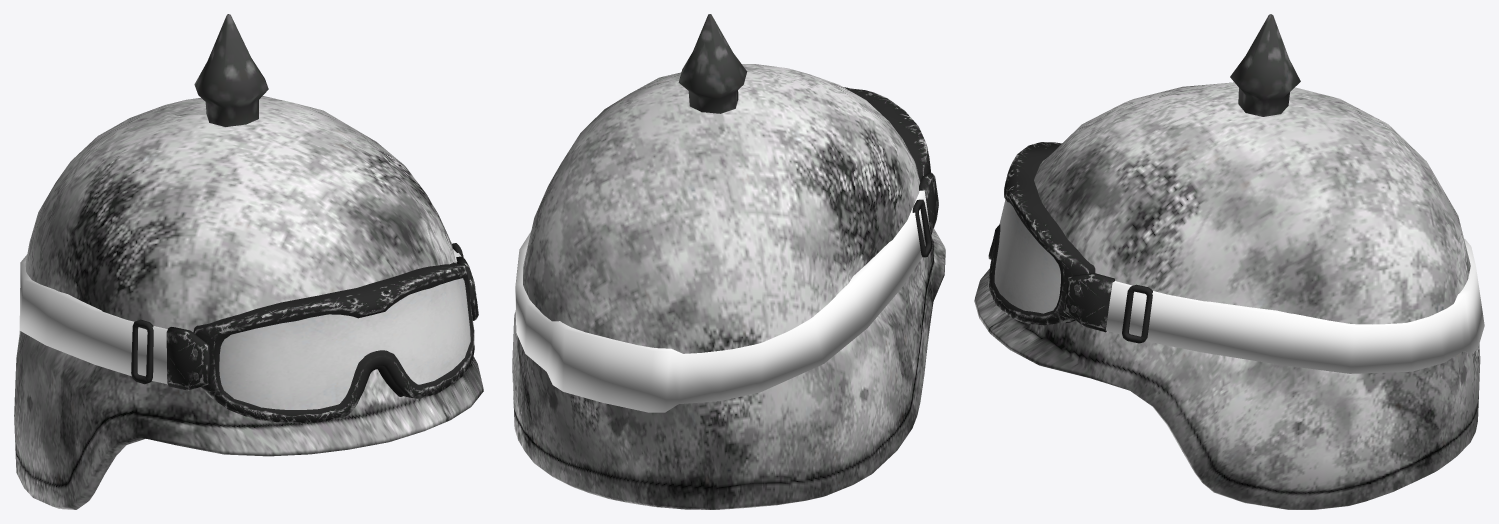
The model's file is SurvivorMale_Head_Helmet_TacticalGogglesSpike_LOD0.glb.
The picture shows the model from 3 angles, left to right: view 1: azimuth 30°, elevation 25°; view 2: azimuth 150°, elevation 25°; view 3: azimuth 270°, elevation 25°; orthographic projection. The views are drawn at different scales.
Parts seen in each view (by area): view 1: Hoodie; view 2: Hoodie; view 3: Hoodie.
Boxes of the visible parts, x1,y1,x2,y2 form: Hoodie: [14, 14, 483, 509]; Hoodie: [512, 14, 945, 509]; Hoodie: [974, 14, 1484, 509].
Bounding box in the file's own units: 0.2055 × 0.2347 × 0.2595.
Materials: 1 (1 with a texture image).
